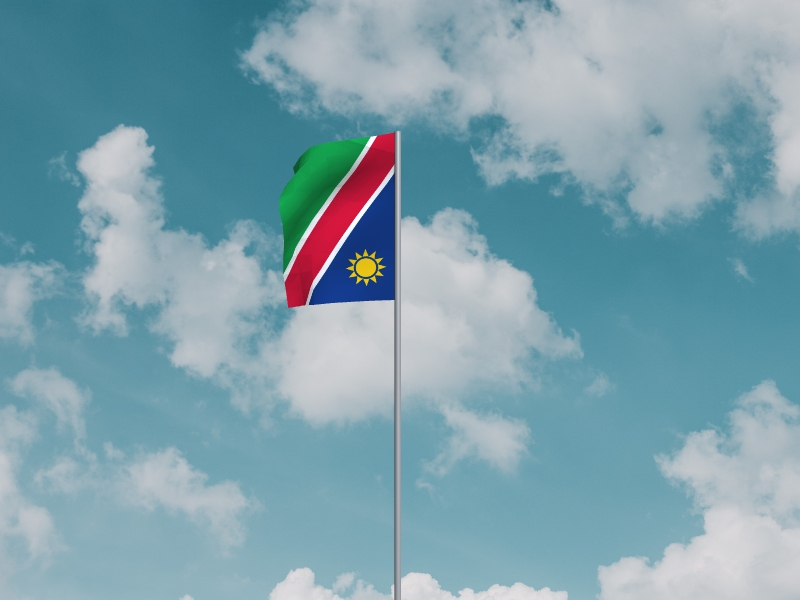na: (279, 133, 395, 309)
